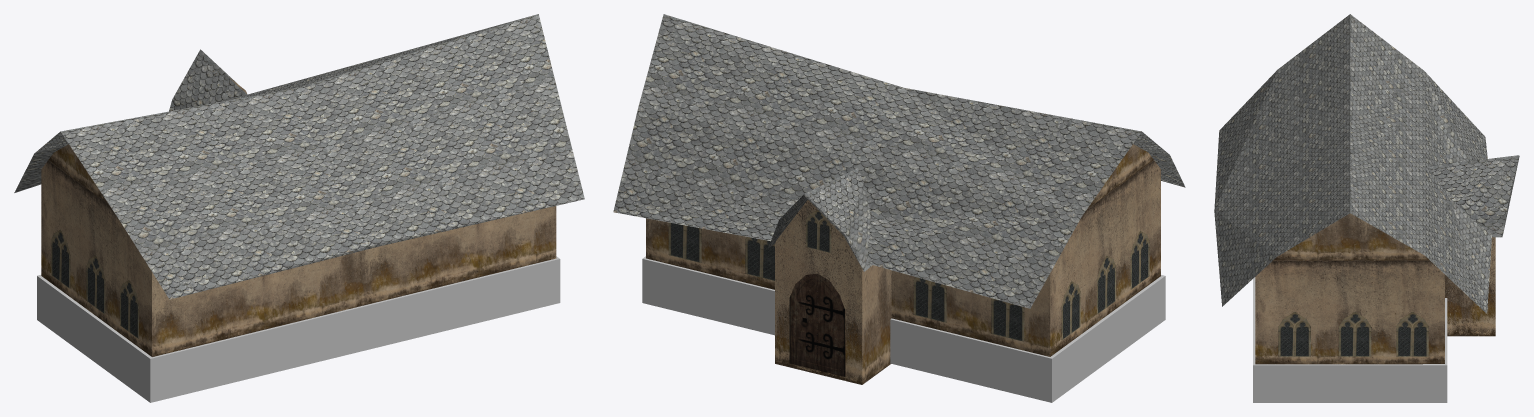
File: v3_house8_LOD2.dae
3 renders of one model, left to right at view 1: azimuth 30°, elevation 25°; view 2: azimuth 150°, elevation 25°; view 3: azimuth 270°, elevation 25°, orthographic. The views are drawn at different scales.
Parts seen in each view (by area): view 1: roof_02, con_dirt_01, bricks_old06, windows_c; view 2: roof_02, con_dirt_01, bricks_old06, windows_c, door_004; view 3: roof_02, con_dirt_01, bricks_old06, windows_c.
Part boxes in pixels (left/top/right/bottom): roof_02: left=14, top=14, right=584, bottom=299; con_dirt_01: left=41, top=77, right=556, bottom=356; bricks_old06: left=37, top=256, right=560, bottom=402; windows_c: left=51, top=229, right=138, bottom=338; roof_02: left=613, top=14, right=1185, bottom=308; con_dirt_01: left=646, top=144, right=1160, bottom=384; bricks_old06: left=642, top=256, right=1165, bottom=402; windows_c: left=668, top=210, right=1149, bottom=341; door_004: left=789, top=273, right=845, bottom=376; roof_02: left=1214, top=14, right=1519, bottom=313; con_dirt_01: left=1255, top=213, right=1495, bottom=364; bricks_old06: left=1253, top=277, right=1447, bottom=402; windows_c: left=1278, top=311, right=1428, bottom=356.
Size of the model in its own units: 9.98 by 4.78 by 6.43.
